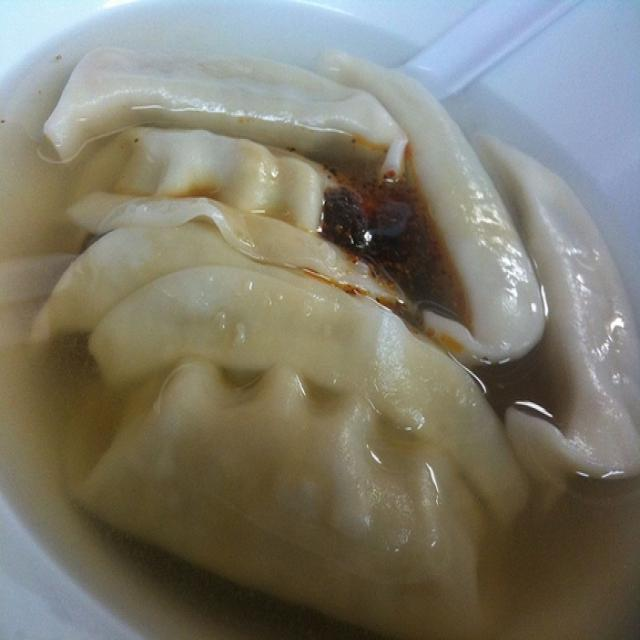带馅早点: (33, 50, 608, 618)
